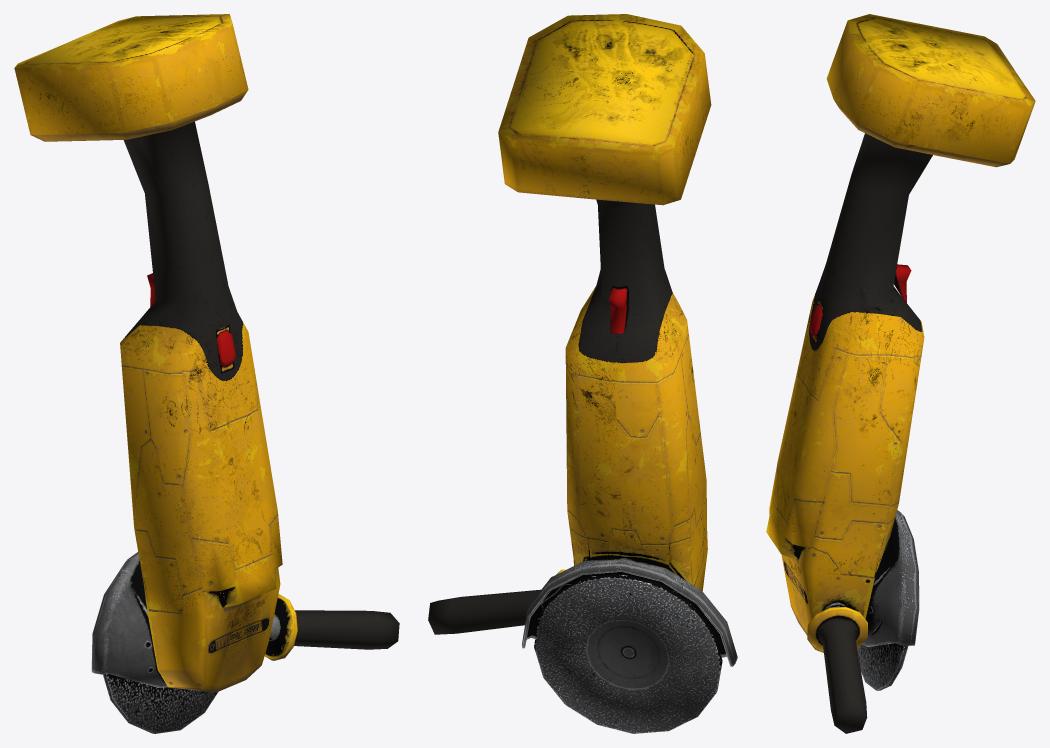
Rendered from Powerdisk.fbx.
3 views of the same model, side by side, from view 1: azimuth 30°, elevation 25°; view 2: azimuth 150°, elevation 25°; view 3: azimuth 270°, elevation 25° (orthographic). The views are drawn at different scales.
Parts seen in each view (by area): view 1: sm_power_disc_a1; view 2: sm_power_disc_a1; view 3: sm_power_disc_a1.
Boxes of the visible parts, bbox=[...] form: sm_power_disc_a1: bbox=[14, 14, 399, 733]; sm_power_disc_a1: bbox=[428, 14, 737, 733]; sm_power_disc_a1: bbox=[766, 14, 1035, 733].
Size of the model in its own units: 21.74 by 46.81 by 17.64.
